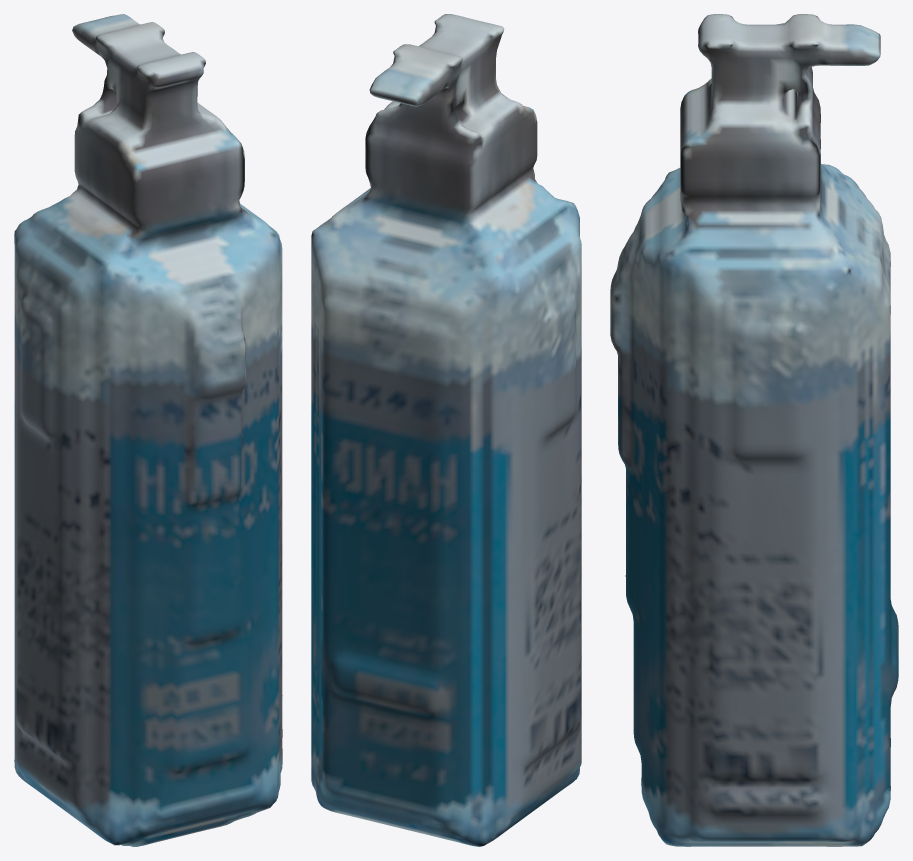
The picture shows the model from 3 angles, left to right: view 1: azimuth 30°, elevation 25°; view 2: azimuth 150°, elevation 25°; view 3: azimuth 270°, elevation 25°; orthographic projection. The views are drawn at different scales.
Parts seen in each view (by area): view 1: world; view 2: world; view 3: world.
Part boxes in pixels (x1,y1,x2,y2): world: (14,14,282,846); world: (311,14,581,846); world: (610,14,898,846).
Bounding box in the file's own units: 36.08 × 114 × 37.1.
